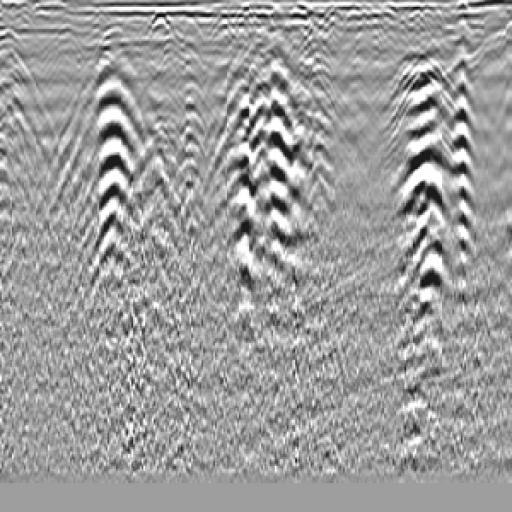metalic: (281, 51, 357, 219)
